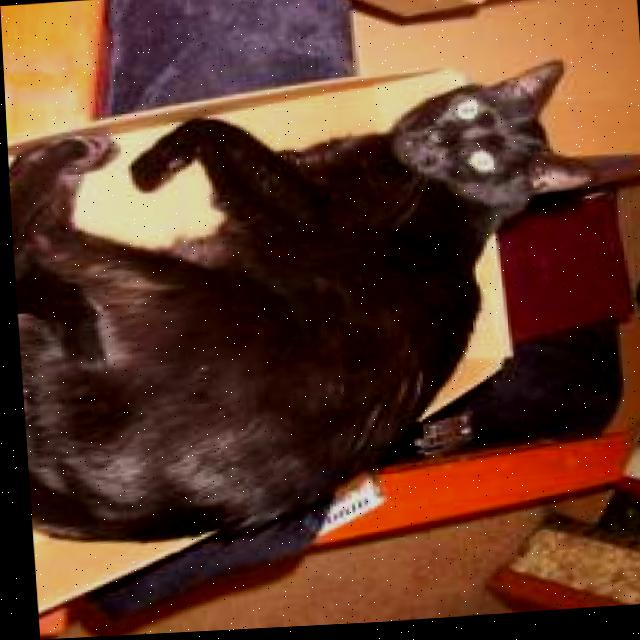Bombay: (4, 63, 625, 546)
